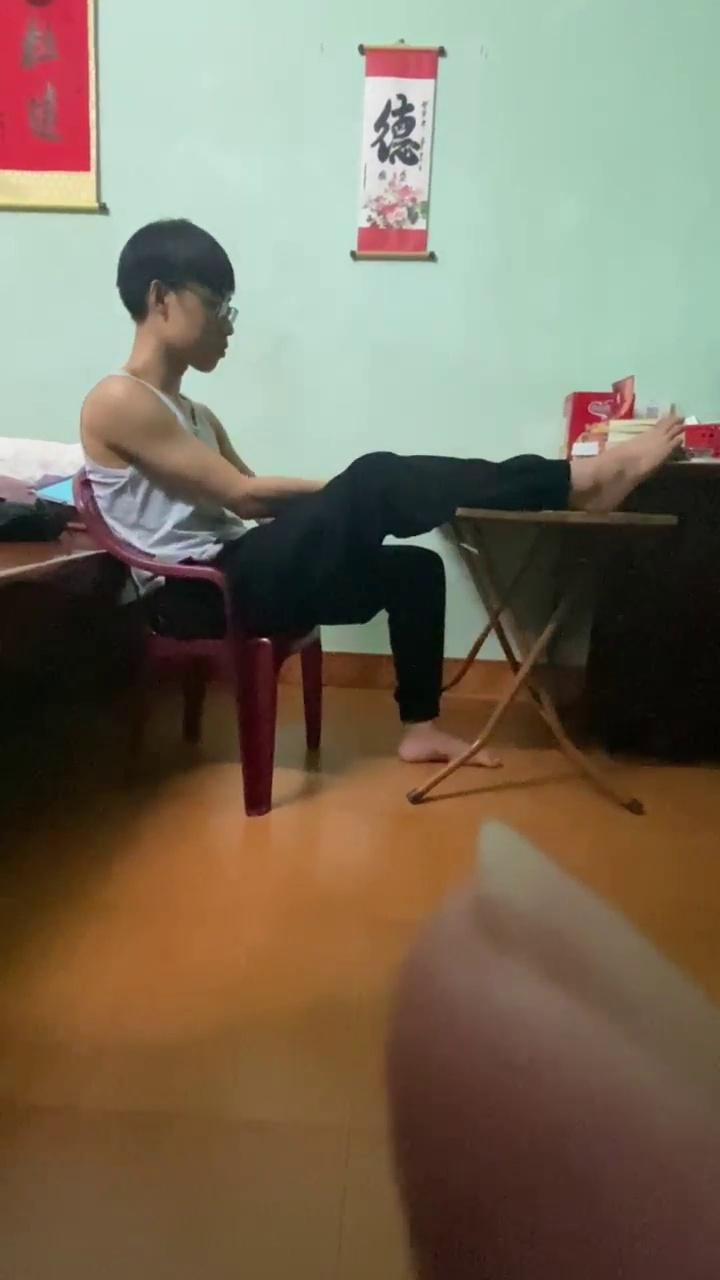BadPosture: (241, 449, 641, 721)
